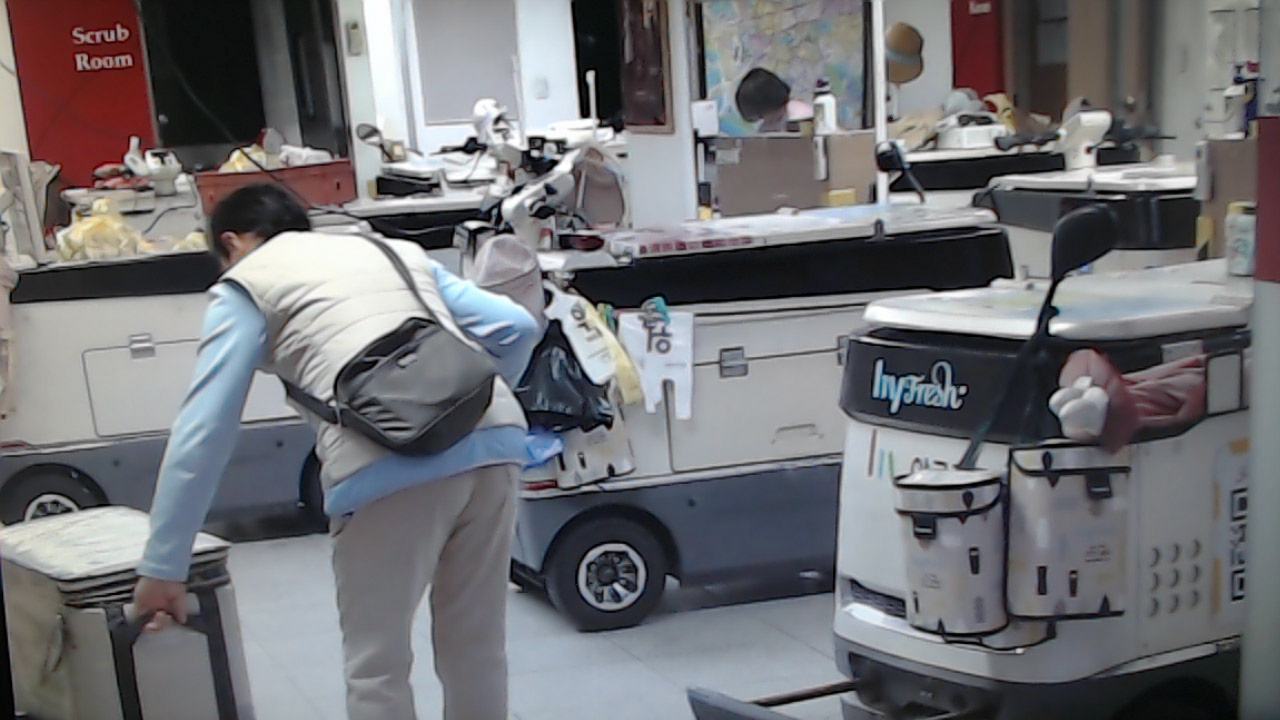Yakurut: (133, 181, 558, 720)
